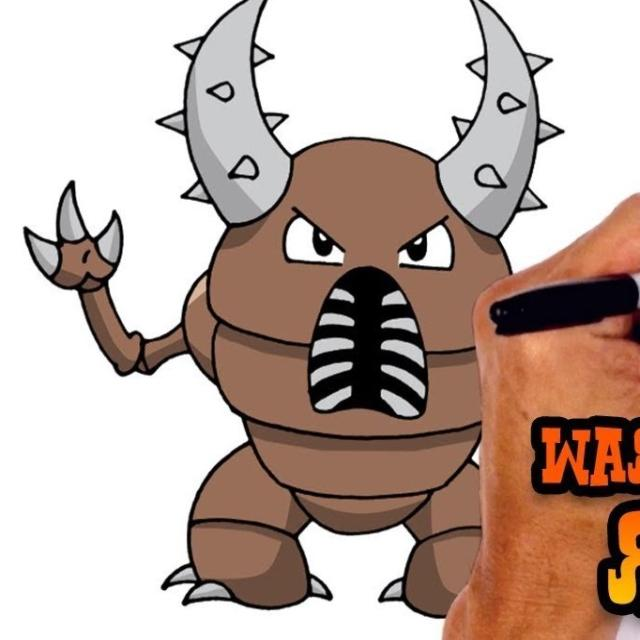Pinsir: (169, 0, 531, 604)
